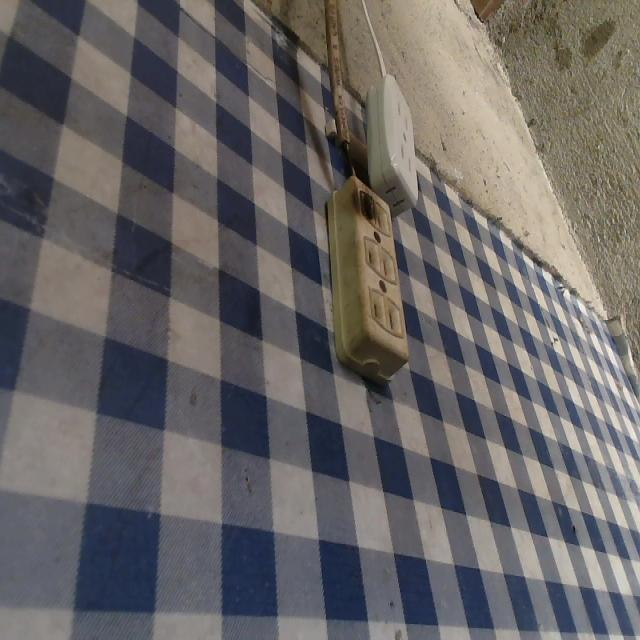-: (352, 179, 376, 233)
